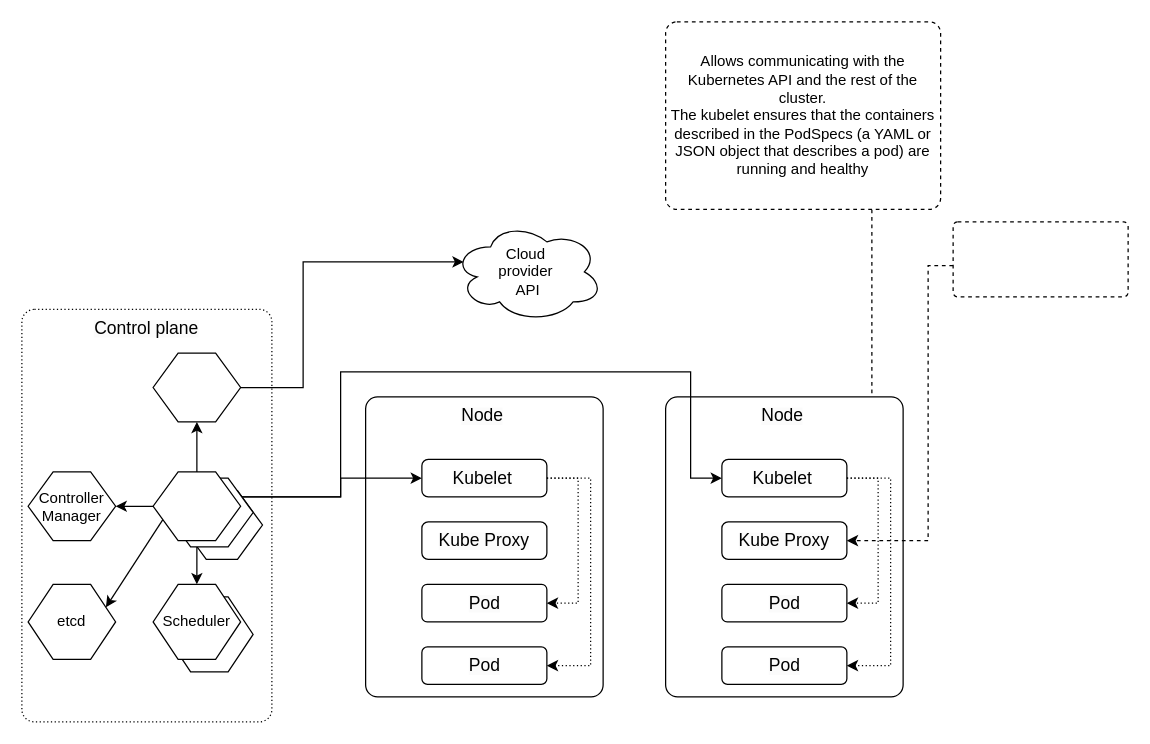
Some shapes in this 1150 by 744 pixel diagram are drawn without their labels. Each missing label, with the box of its shape:
API: (152, 471, 241, 541)
c-o-m: (152, 352, 241, 422)
Handles requests between nodes: (952, 221, 1128, 297)
